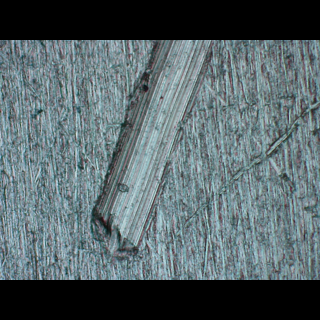d: (85, 39, 217, 267)
